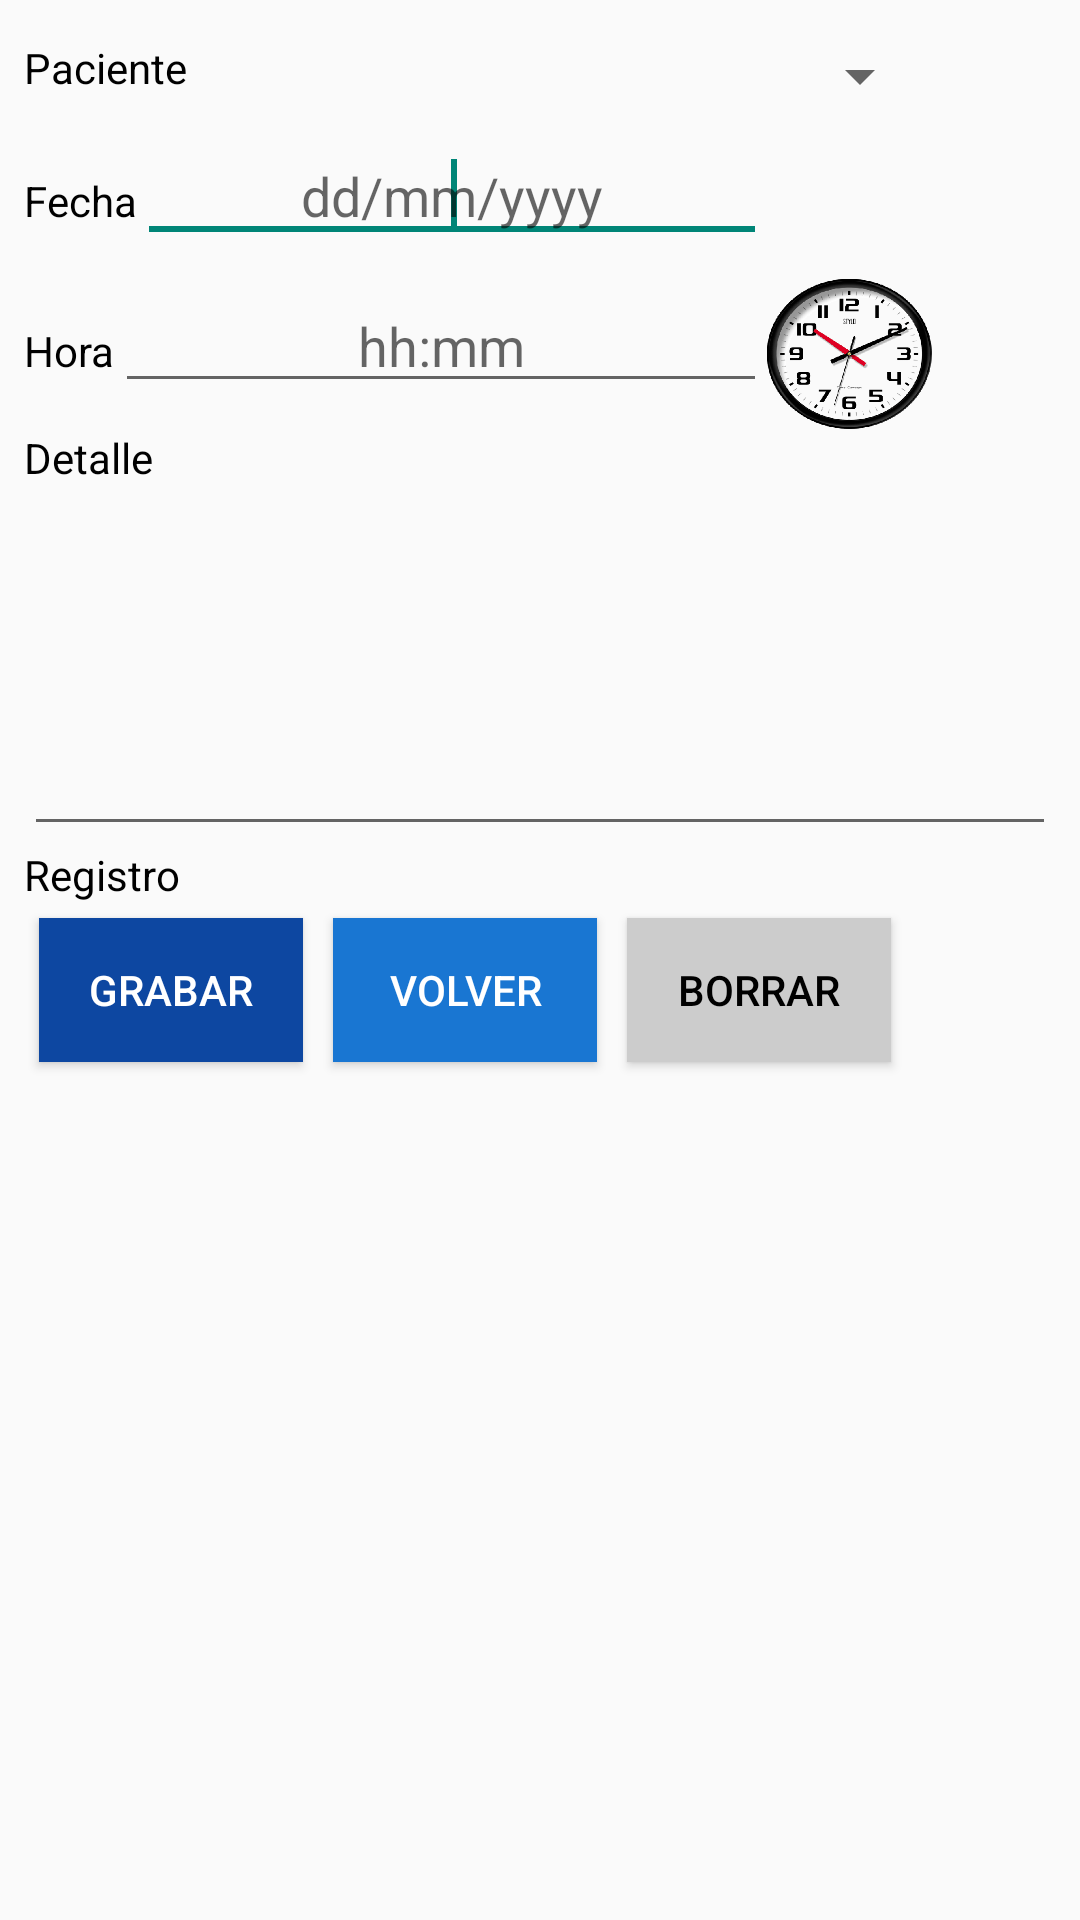

Icon bounding boxes for this 1080*1920 phone screenshot, format (x1, y1, x2, y2):
reloj: (767, 279, 932, 429)
